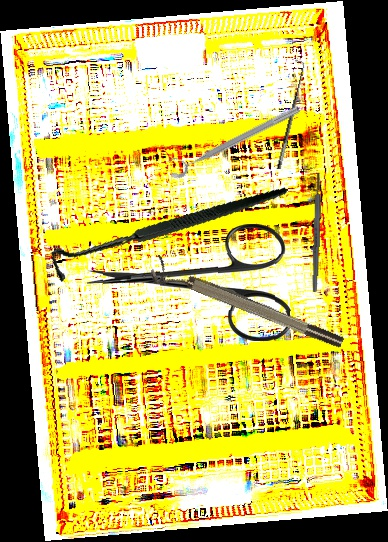Fixation Ring: (147, 254, 346, 360), (163, 95, 303, 182)
Hook Surgical: (46, 146, 289, 322), (268, 57, 310, 171)
Iris Scissors: (85, 221, 293, 342)
Scalpel Handle: (310, 172, 323, 293)
